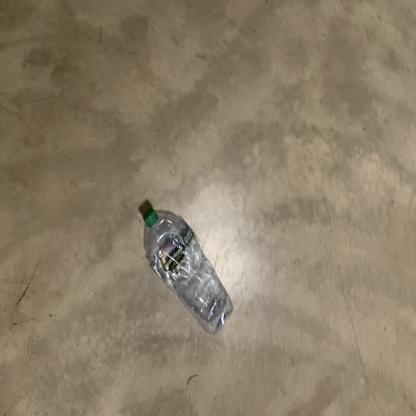trash: (141, 202, 235, 339)
